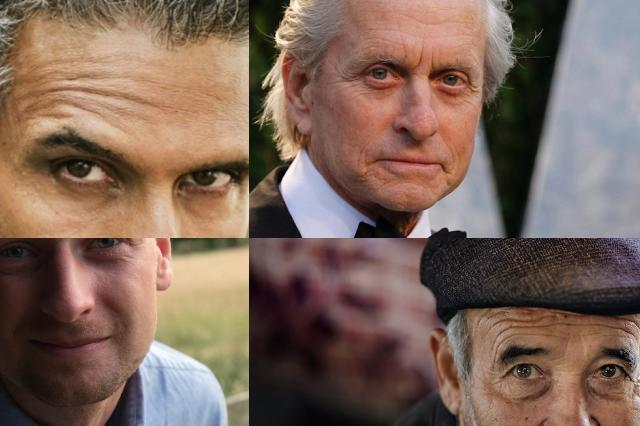chin: (358, 167, 376, 185)
crows_feet: (340, 64, 364, 88), (466, 78, 482, 100), (491, 370, 509, 388), (630, 376, 640, 400)
forehead: (43, 71, 89, 113), (486, 312, 546, 340), (95, 79, 141, 109), (608, 314, 640, 340), (374, 22, 406, 36), (414, 14, 440, 30), (369, 34, 396, 48)
frown_line: (411, 46, 425, 72), (552, 352, 570, 372), (428, 48, 438, 72)
gummy_smile: (520, 410, 547, 426), (592, 414, 615, 426)
sad_smile: (440, 160, 452, 180)
